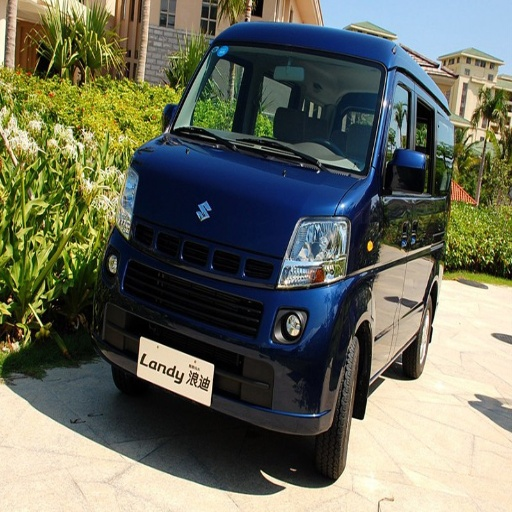front_bumper: (106, 225, 349, 430)
front_glass: (174, 41, 388, 173)
front_left_door: (384, 81, 430, 242)
